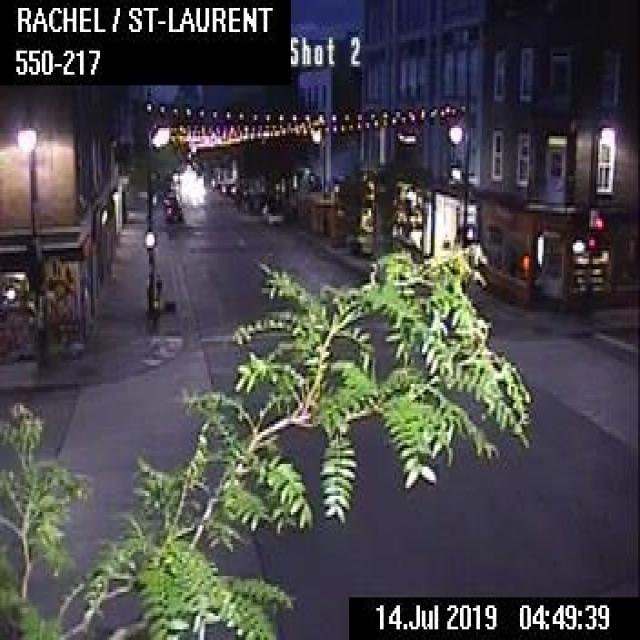vehicle: (163, 204, 180, 220)
